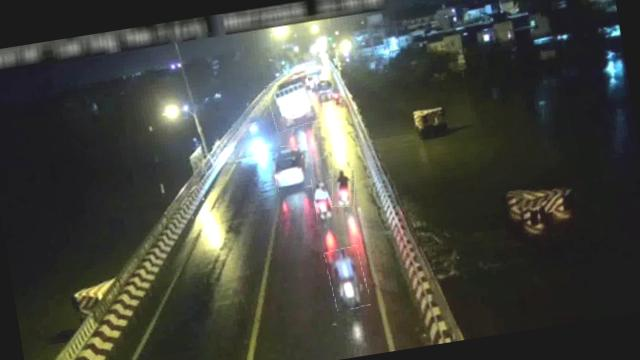Bike: (325, 245, 370, 311), (328, 166, 359, 208), (312, 175, 336, 220)
Car: (271, 143, 312, 192)
Truck: (266, 74, 320, 132)
